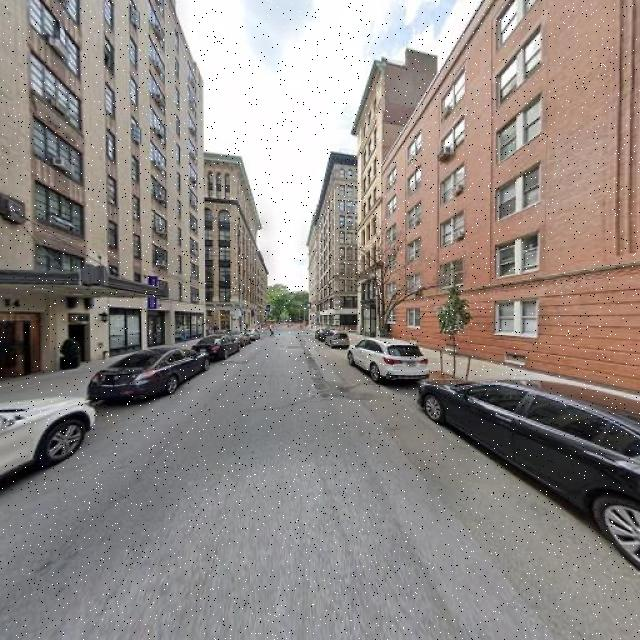Building: (384, 1, 640, 395), (1, 1, 202, 379), (359, 60, 381, 339)
